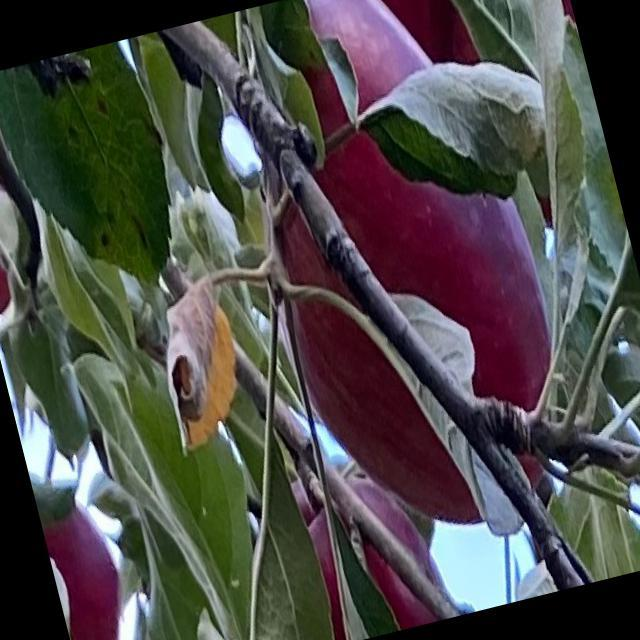100-_ripeness: (206, 0, 595, 558), (288, 449, 456, 639), (36, 491, 140, 639), (0, 130, 40, 319)
